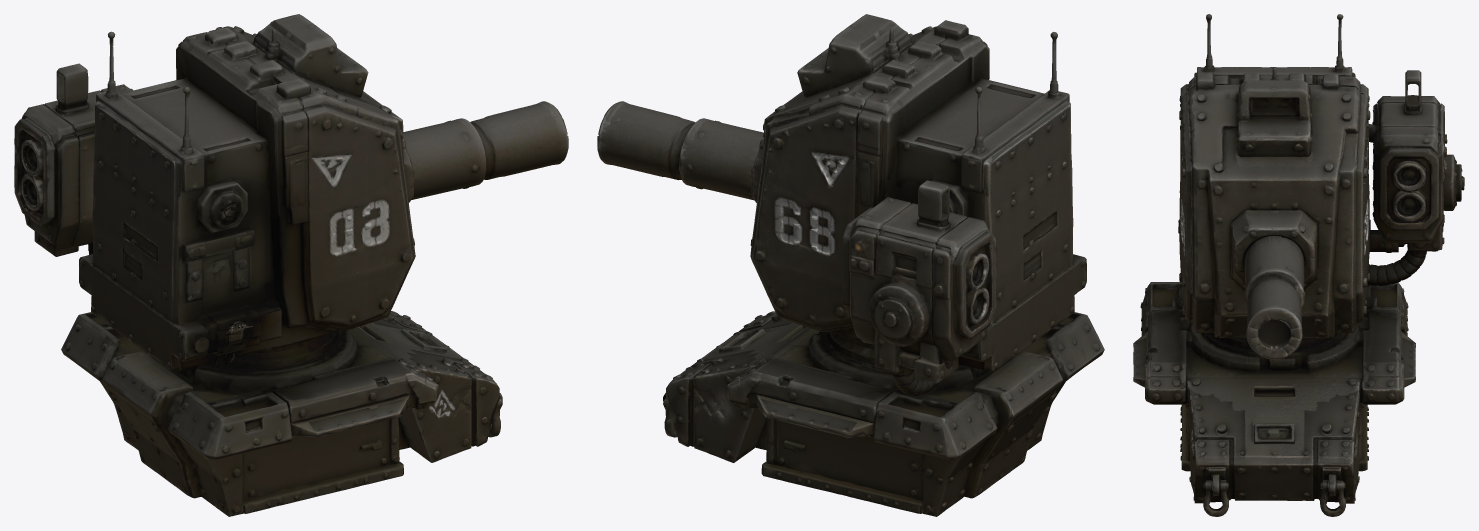
The model's file is Body.fbx.
3 renders of one model, left to right at view 1: azimuth 30°, elevation 25°; view 2: azimuth 150°, elevation 25°; view 3: azimuth 270°, elevation 25°, orthographic. The views are drawn at different scales.
Parts seen in each view (by area): view 1: Cabine, Body, Weapon; view 2: Cabine, Body, Weapon; view 3: Cabine, Body, Weapon.
Boxes of the visible parts, x1,y1,x2,y2 form: Cabine: (14,14,415,371); Body: (61,311,502,516); Weapon: (403,101,568,199); Cabine: (750,14,1086,395); Body: (663,311,1104,516); Weapon: (597,101,763,200); Cabine: (1178,14,1464,338); Body: (1133,282,1415,516); Weapon: (1244,236,1305,359).
Size of the model in its own units: 102 by 93.59 by 75.72.
1 material, 1 textured.
